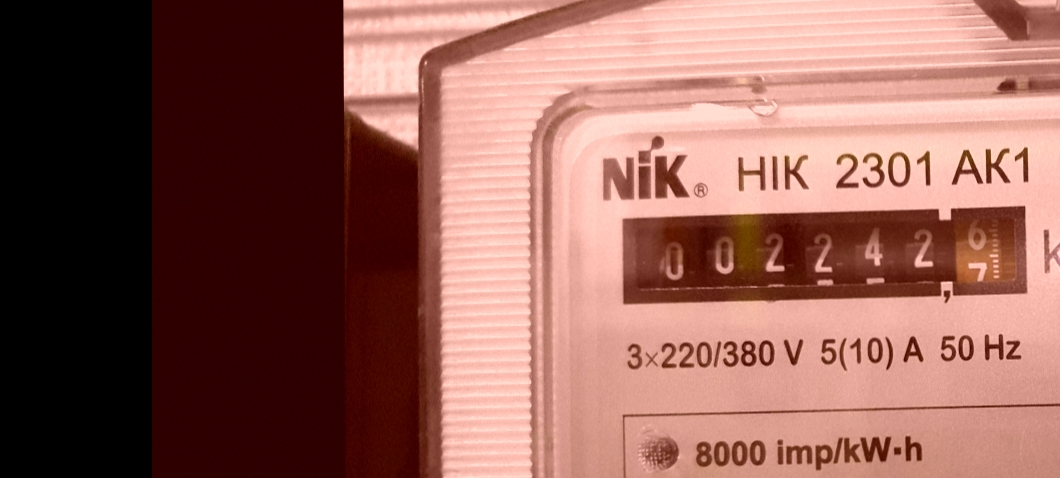0: (711, 232, 736, 275), (763, 231, 787, 273), (663, 238, 685, 282)
2: (910, 226, 935, 270), (811, 230, 835, 274)
4: (861, 224, 884, 268)
6: (965, 218, 989, 251)
7: (965, 260, 989, 283)
screen: (612, 195, 1044, 319)
